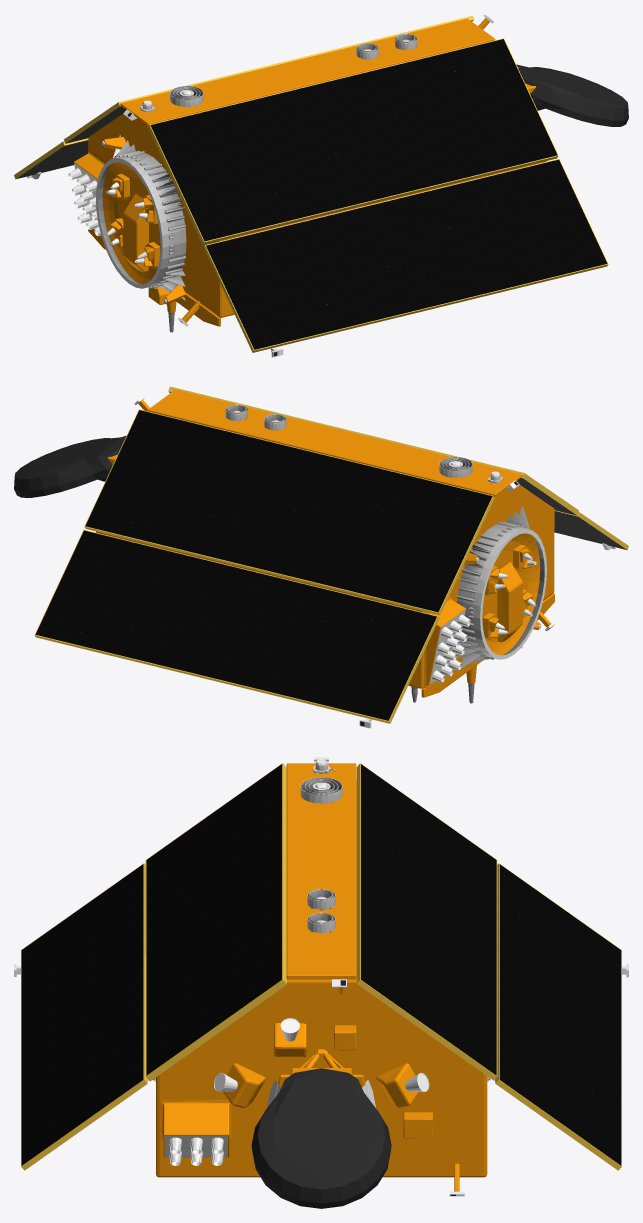
File: sentinel6.glb
The picture shows the model from 3 angles, top to bottom: view 1: azimuth 30°, elevation 25°; view 2: azimuth 150°, elevation 25°; view 3: azimuth 270°, elevation 25°; orthographic projection. The views are drawn at different scales.
Parts seen in each view (by area): view 1: array, Cylinder.007, MPPS, AMR, GNSS_POD_RO_SPA, GNSS; view 2: array, Cylinder.007, MPPS, AMR, GNSS, GNSS_POD_RO_SPA; view 3: array, Cylinder.007, AMR, GNSS_POD_RO_SPA, GNSS, starTrackers.
Boxes of the visible parts, <box> form: array: <box>14,15,608,352</box>; Cylinder.007: <box>74,18,546,326</box>; MPPS: <box>96,135,186,300</box>; AMR: <box>516,64,628,126</box>; GNSS_POD_RO_SPA: <box>140,33,417,112</box>; GNSS: <box>68,163,100,235</box>; array: <box>34,386,628,723</box>; Cylinder.007: <box>96,389,554,697</box>; MPPS: <box>457,505,546,671</box>; AMR: <box>14,435,126,497</box>; GNSS: <box>429,609,471,684</box>; GNSS_POD_RO_SPA: <box>225,404,502,484</box>; array: <box>21,763,621,1170</box>; Cylinder.007: <box>156,763,487,1191</box>; AMR: <box>251,1068,391,1208</box>; GNSS_POD_RO_SPA: <box>300,759,342,932</box>; GNSS: <box>164,1135,227,1166</box>; starTrackers: <box>213,1018,429,1091</box>.
Bounding box in the file's own units: 5.13 × 2.32 × 4.37.
Materials: 17 (4 with a texture image).
